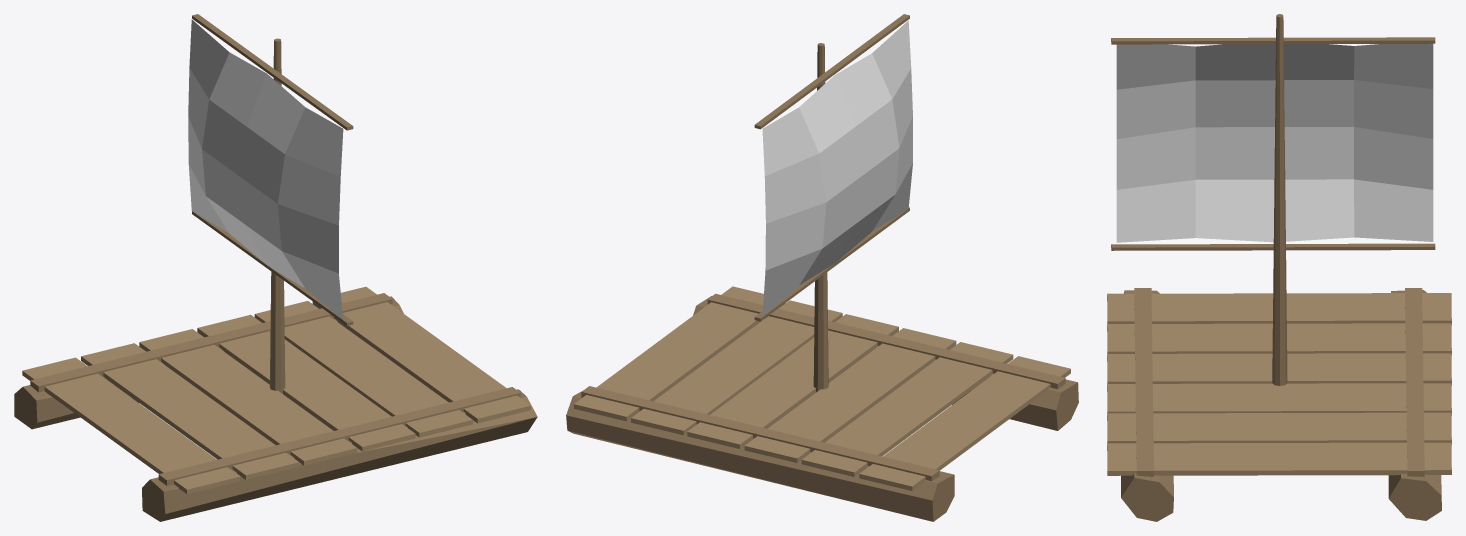
The model's file is StarterRaft.glb.
3 renders of one model, left to right at view 1: azimuth 30°, elevation 25°; view 2: azimuth 150°, elevation 25°; view 3: azimuth 270°, elevation 25°, orthographic. The views are drawn at different scales.
Visible parts, largest first — view 1: Sail2; view 2: Sail2; view 3: Sail2.
Part boxes in pixels (<box>): Sail2: <box>14,14,537,521</box>; Sail2: <box>566,14,1078,521</box>; Sail2: <box>1107,14,1451,521</box>.
Size of the model in its own units: 5.58 by 5.57 by 4.23.
